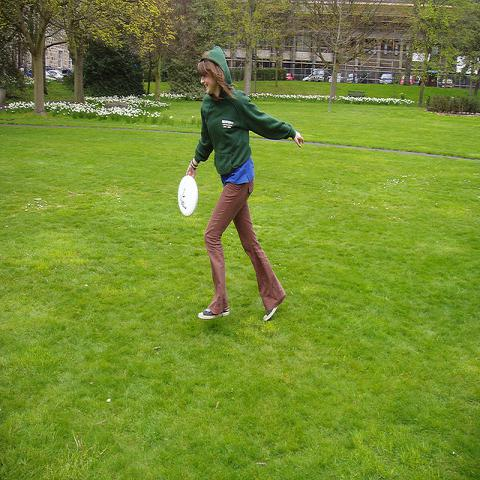car: (302, 74, 329, 82), (418, 75, 436, 87), (379, 73, 398, 84), (400, 74, 414, 84), (48, 70, 64, 78), (346, 74, 360, 82), (440, 79, 452, 88), (46, 71, 56, 81), (286, 73, 294, 80)
